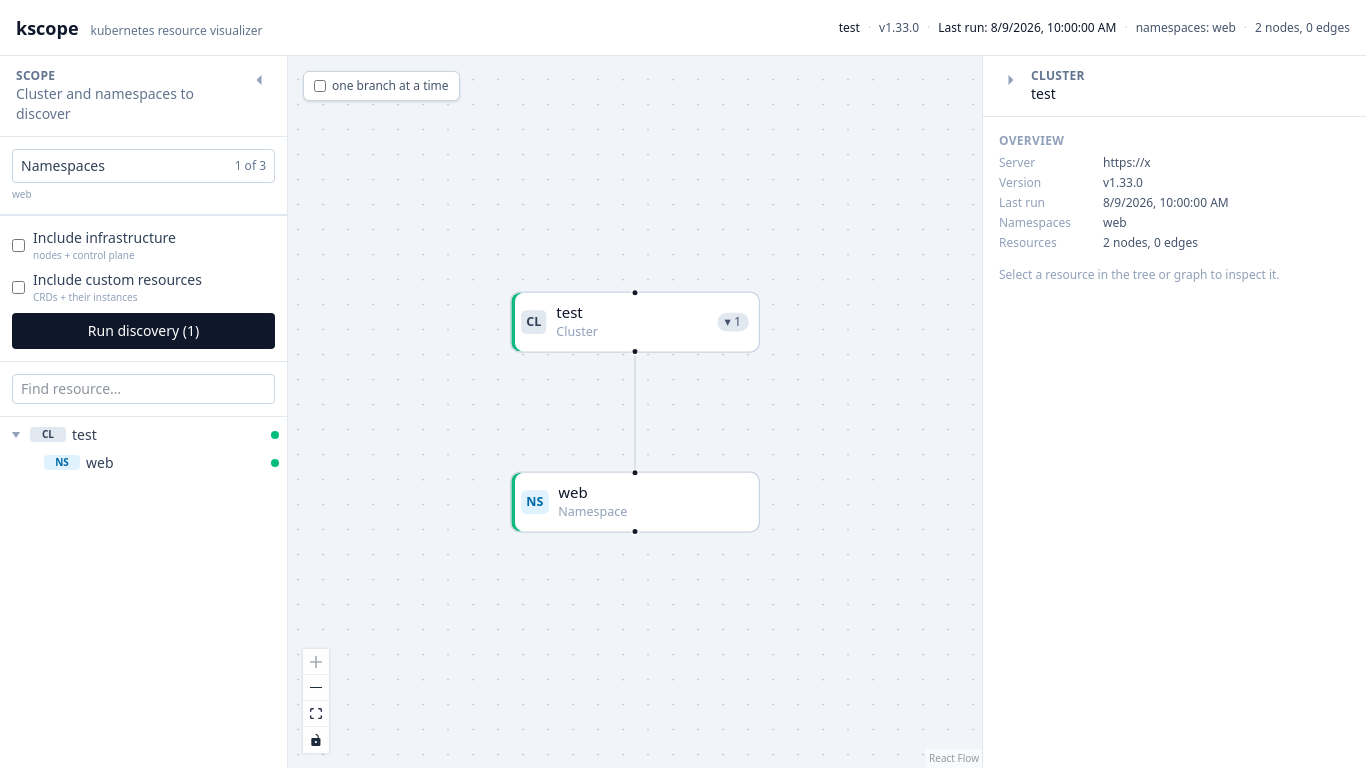
it: sidebar collapsing › collapsing details keeps the selection; reopening needs no re-select
Click the 3rd text titled "Namespace: web". click: {"x": 100, "y": 462}
box: [86,453,114,472]
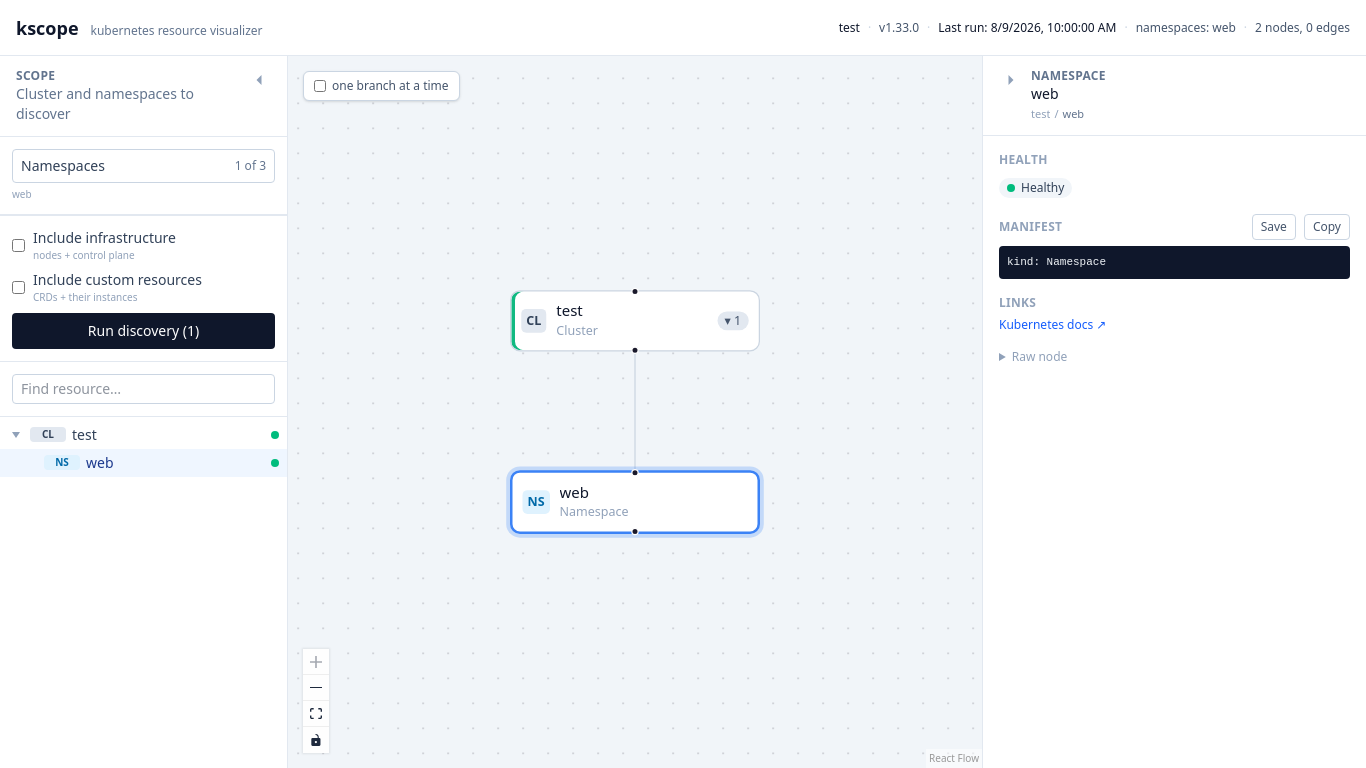
Now the text "Health" is shown, box [999,150,1048,168]
Click the button named "Collapse details". click: {"x": 1011, "y": 80}
box: [999,68,1023,92]
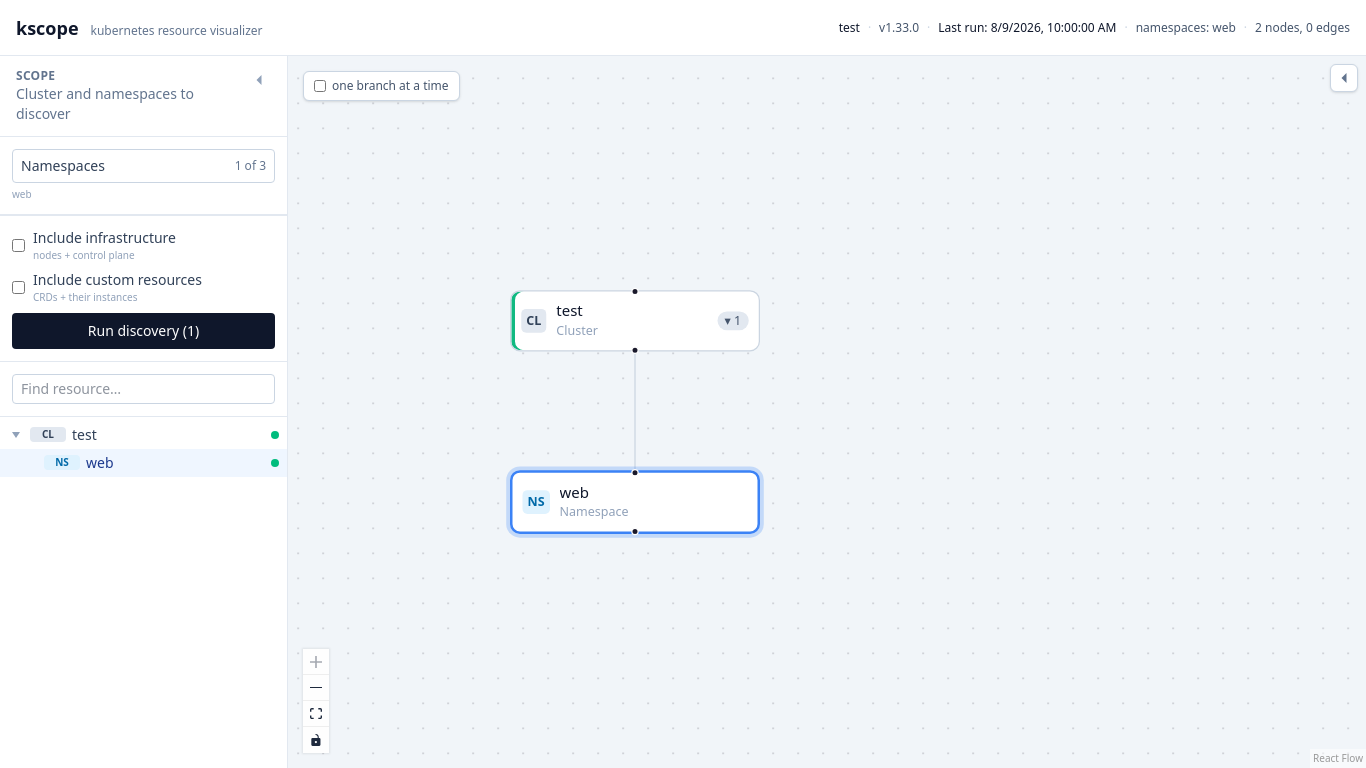
Now the text "Health" is gone
// Selection survived: the floating button restores the same node.
Click the button named "Expand details". click: {"x": 1344, "y": 78}
box: [1330,64,1358,92]
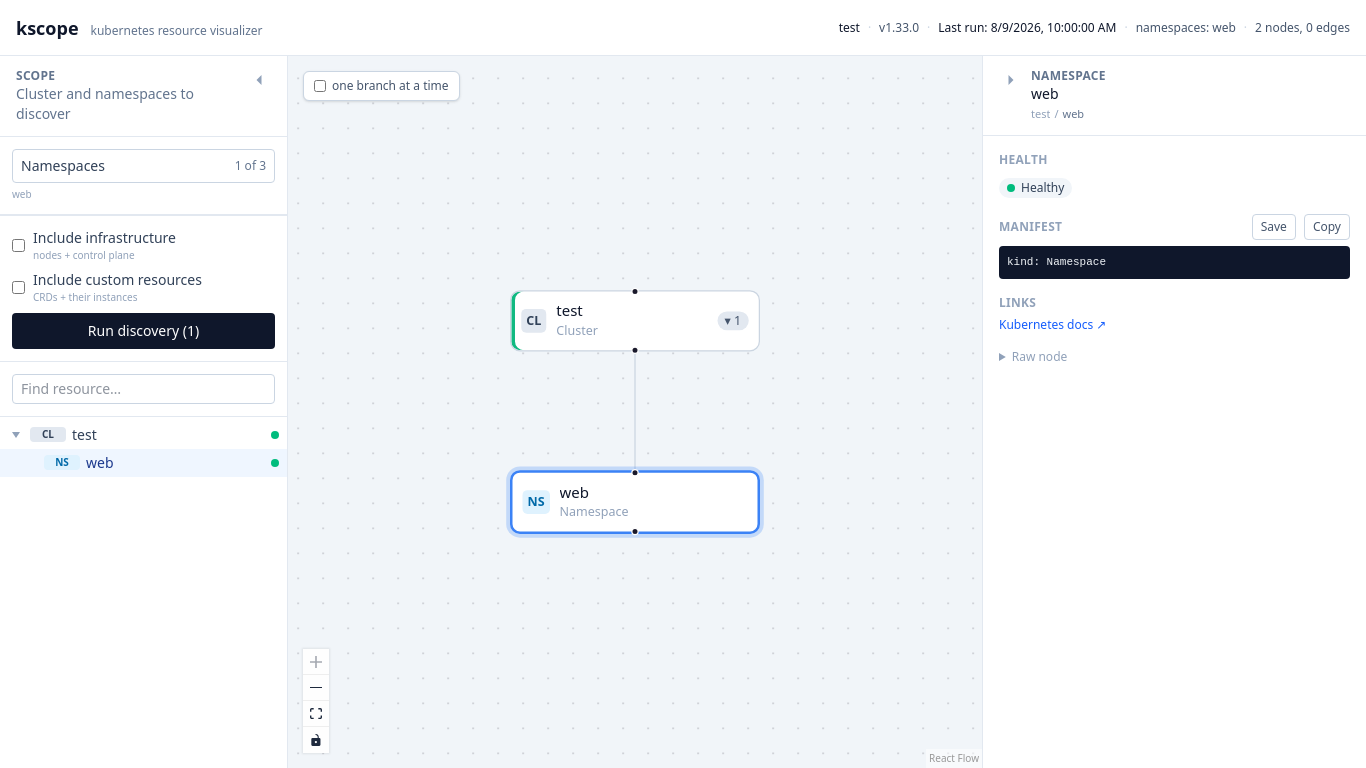
Now the text "Health" is shown, box [999,150,1048,168]
